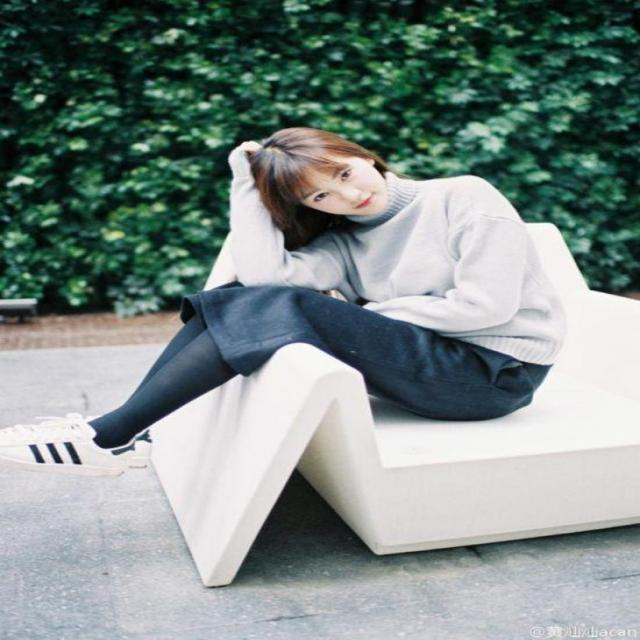Manusia: (14, 126, 594, 458)
